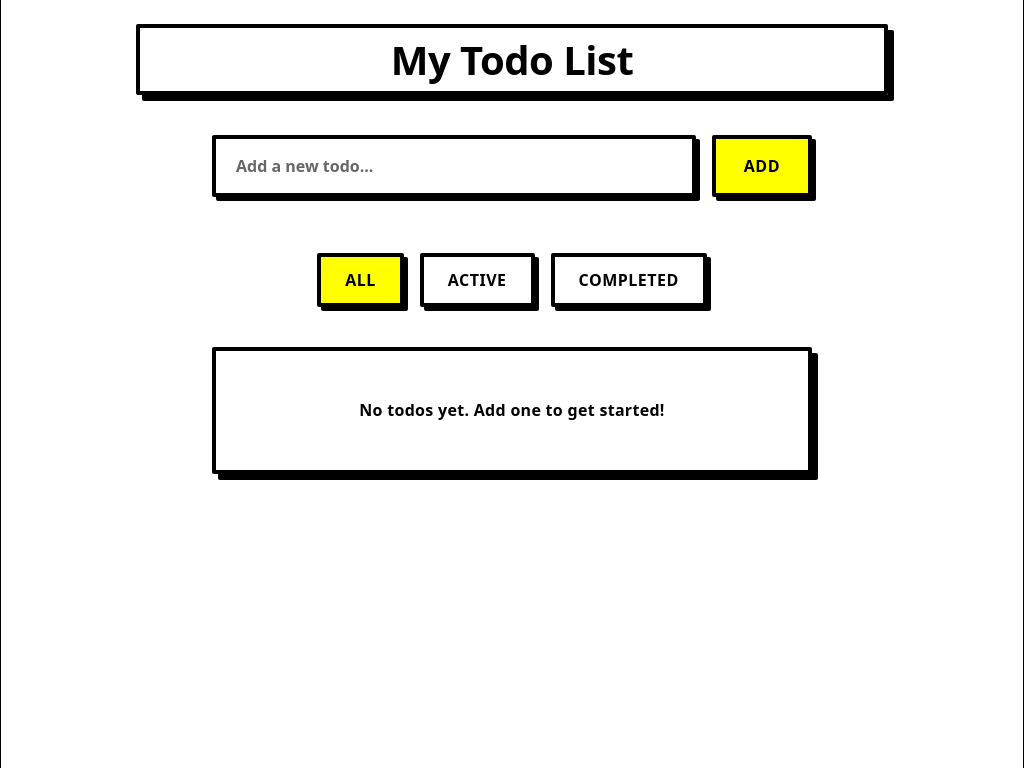
Scenario: App Component Integration › deletes a todo
Type "Delete me" into the field named "Add new todo". click: point(454, 166)
box: [212, 135, 696, 197]
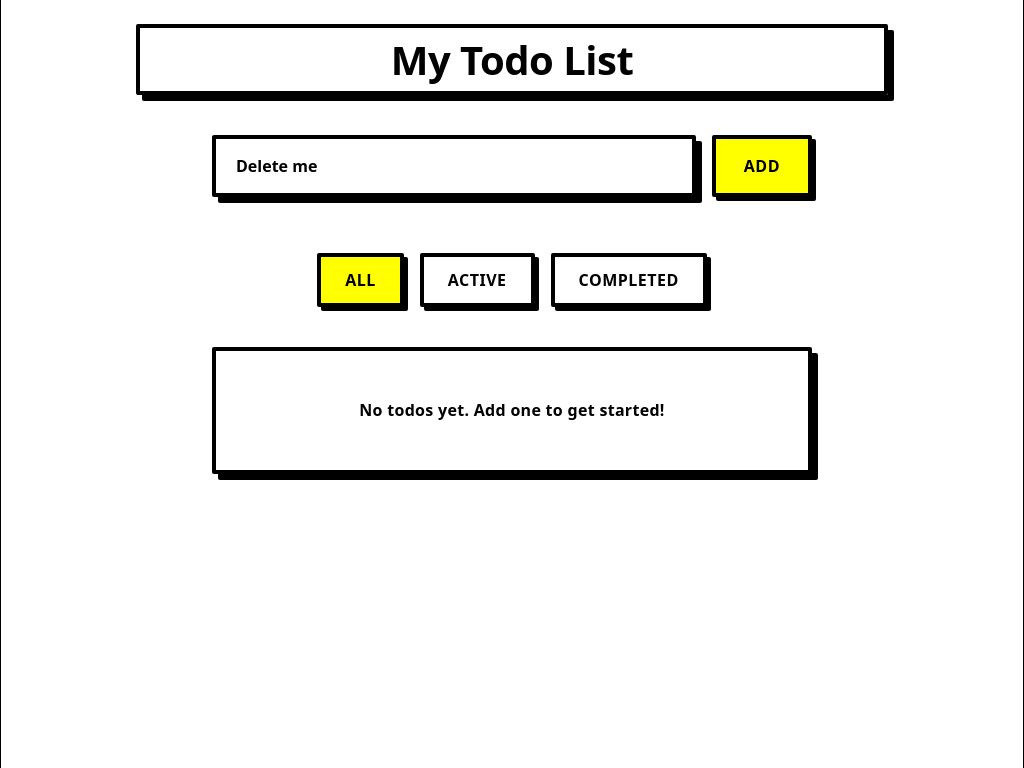
Press Enter
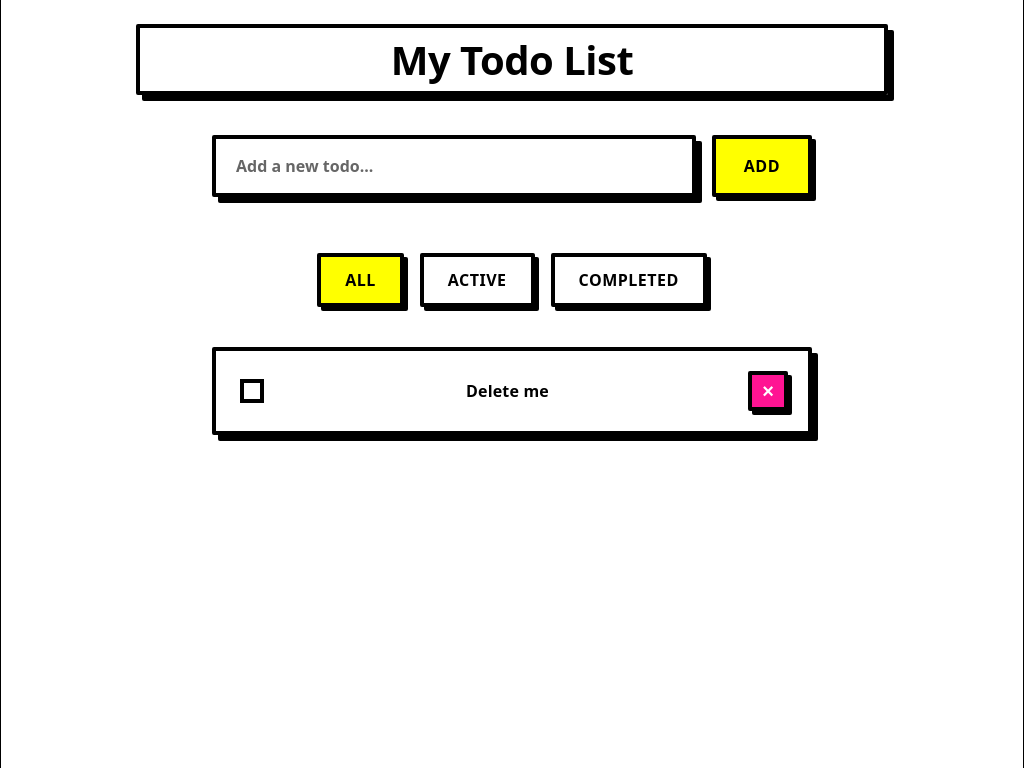
Result: the text "Delete me" is shown at [466, 380, 549, 402]
Click the button named "Delete Delete me". click: point(768, 391)
box: [748, 371, 788, 411]
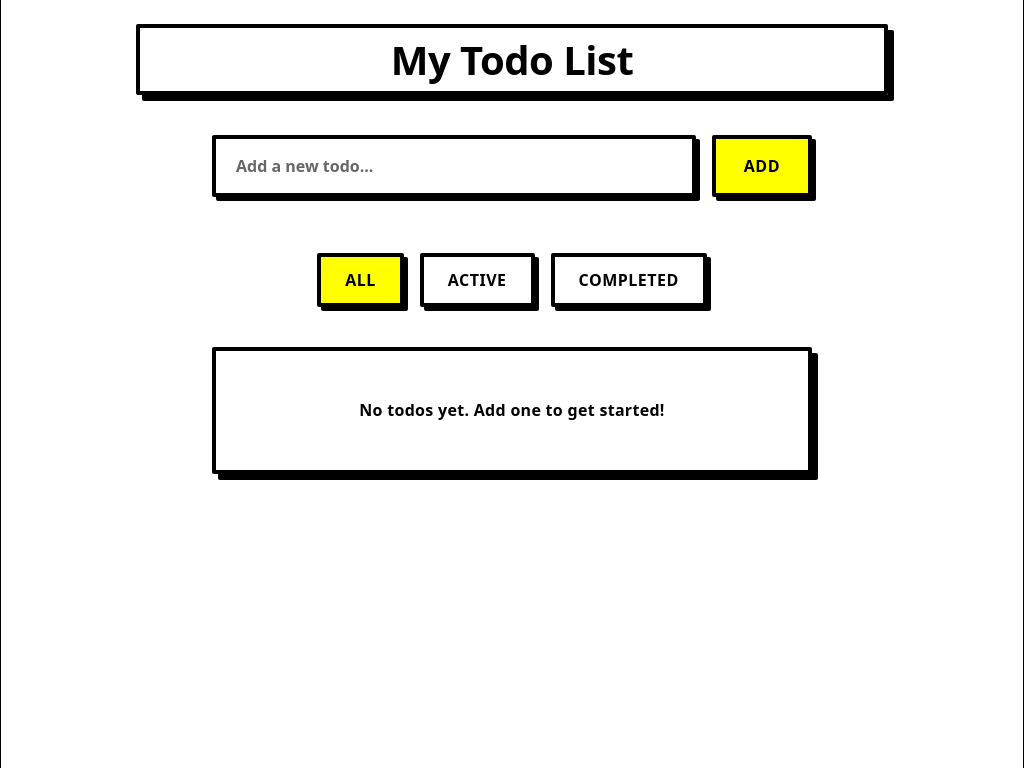
Result: the text "Delete me" is gone
